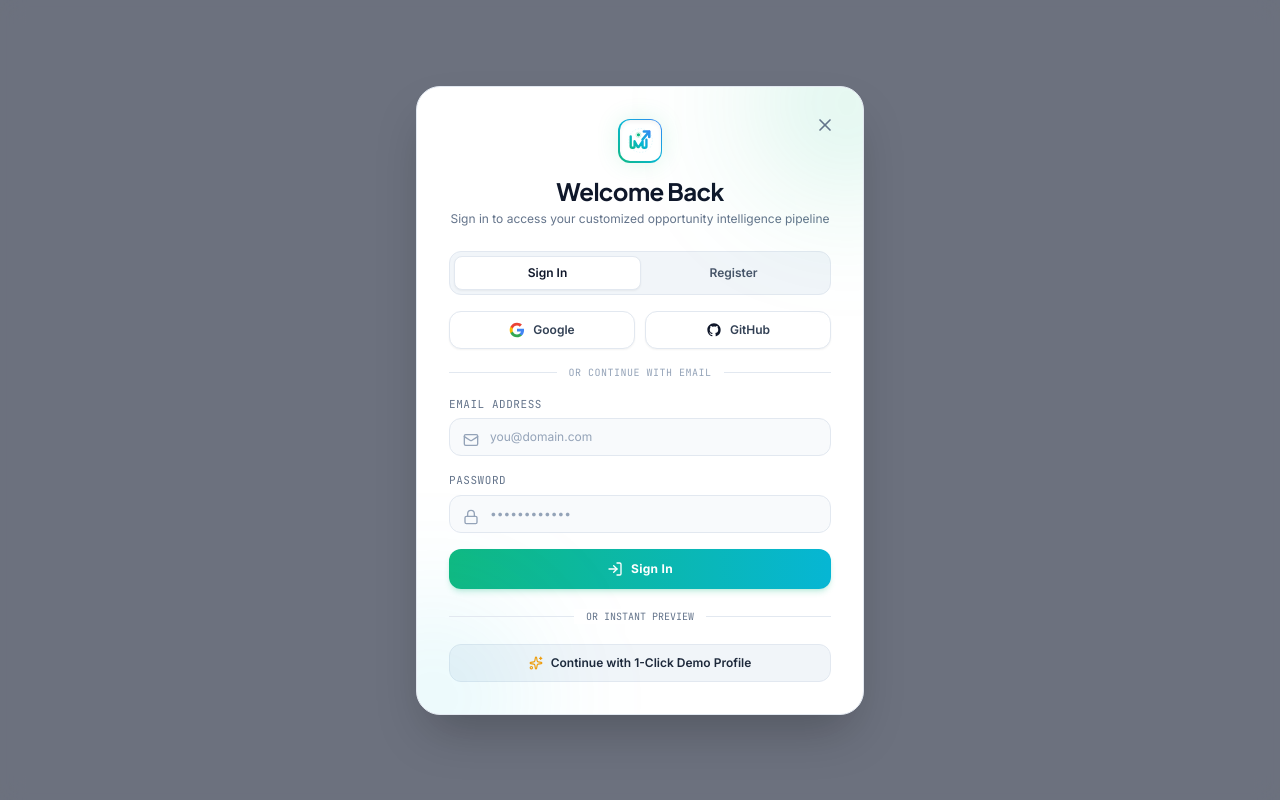
Test: AuthModal Component & Authentication Flows › displays error notice when login fails
Type "bad@example.com" into the field with placeholder "you@domain.com" at (640, 437), box left=449, top=418, right=831, bottom=456
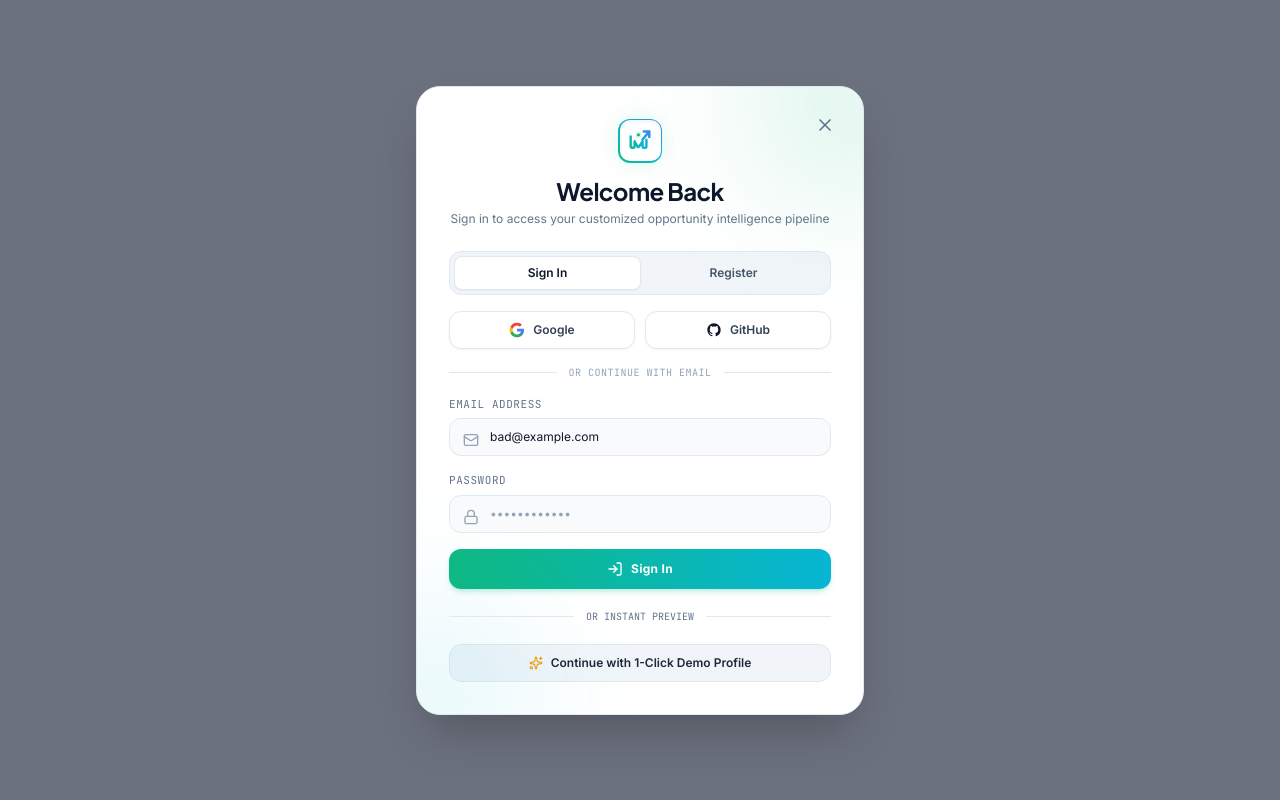
Type "wrongpw" into the password field with placeholder "••••••••••••" at (640, 514), box left=449, top=494, right=831, bottom=532
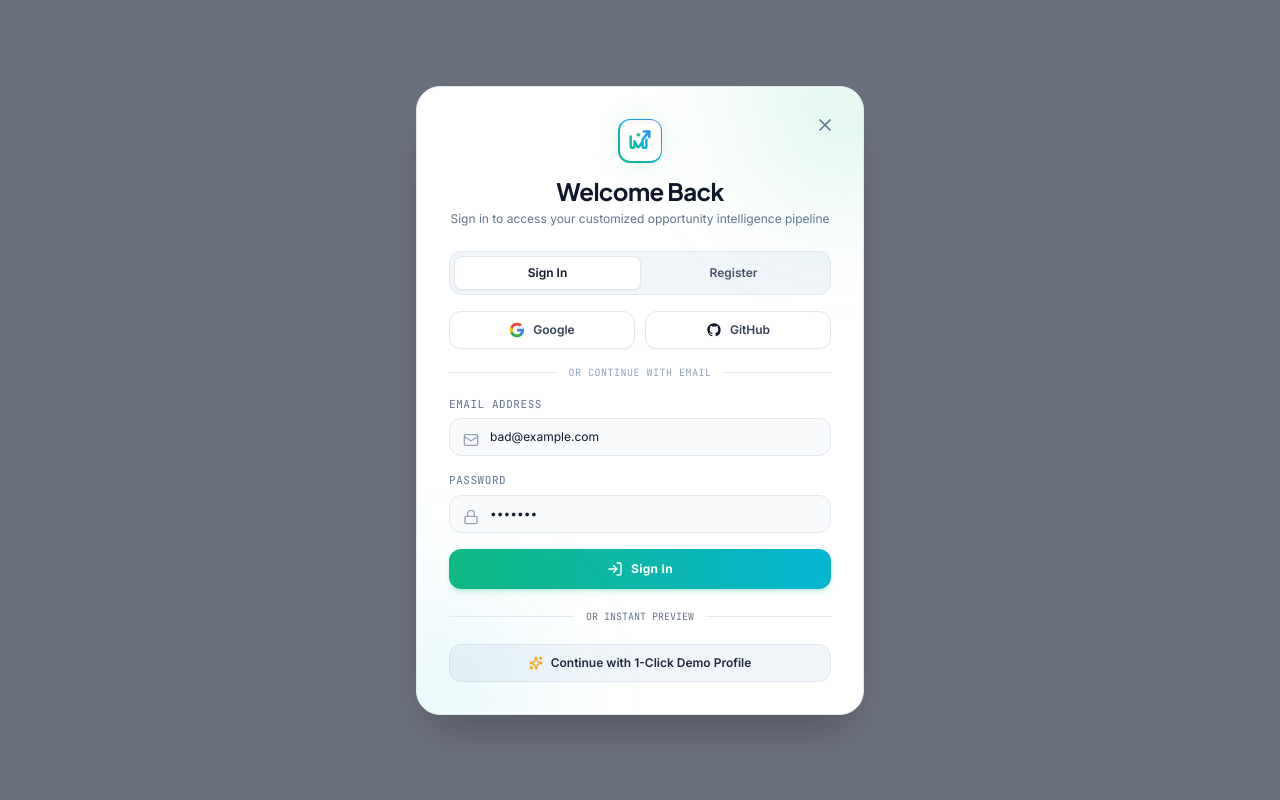
Click the submit button at (640, 568), box left=449, top=548, right=831, bottom=588
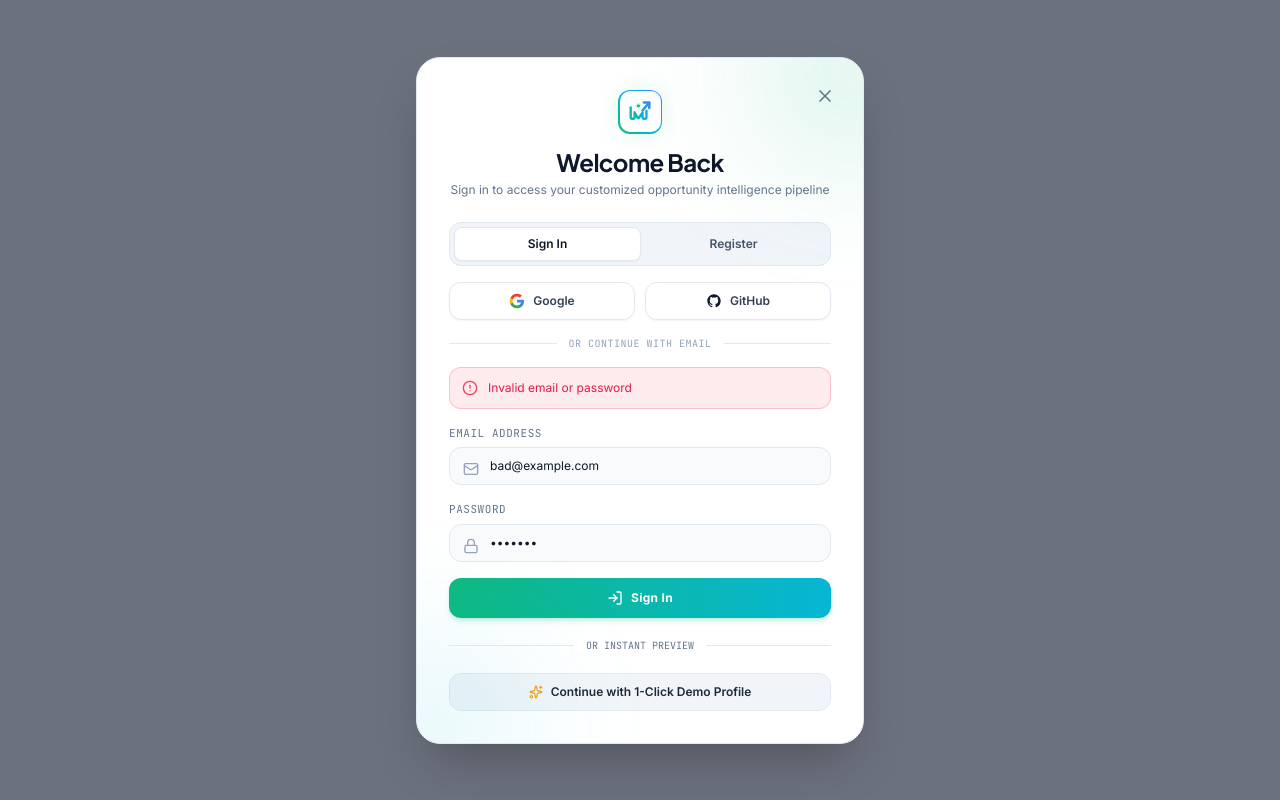
Now the text "Invalid email or password" is shown, box left=488, top=380, right=632, bottom=396
